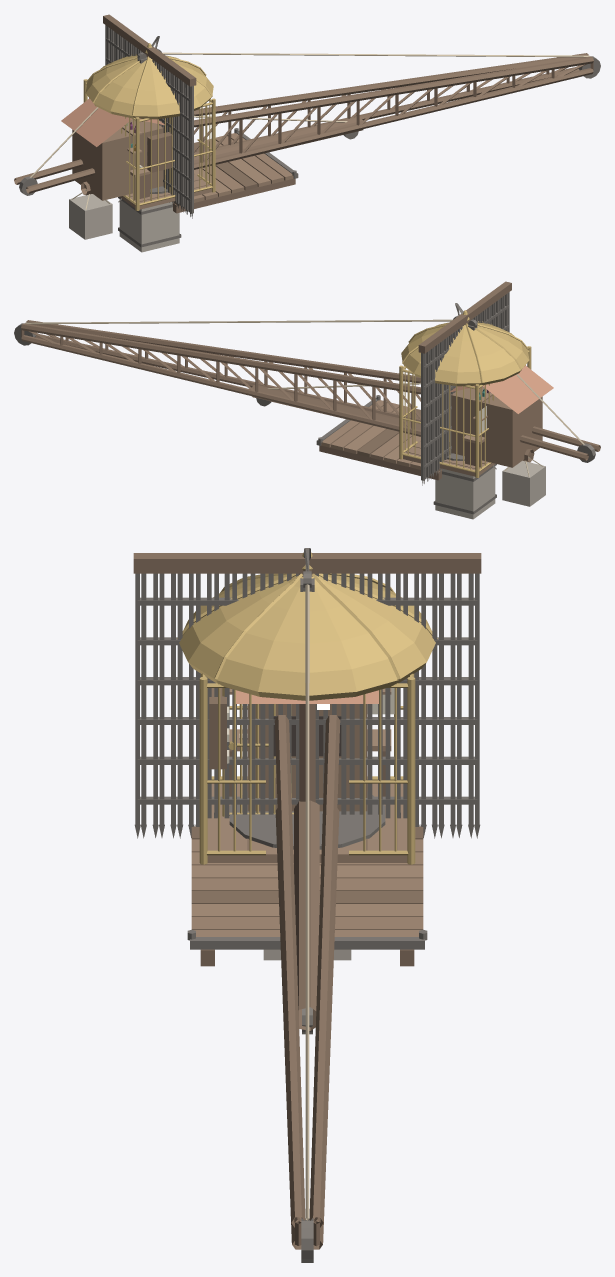
Rendered from rigs.glb.
3 renders of one model, top to bottom at view 1: azimuth 30°, elevation 25°; view 2: azimuth 150°, elevation 25°; view 3: azimuth 270°, elevation 25°, orthographic. The views are drawn at different scales.
Parts seen in each view (by area): view 1: crane_jib__wood_dark, cage__brass, crane_jib__wood, gate1__iron, leaf__wood, counterweight__mortar, gate3__iron, crane_jib__roof, boom__mortar, leaf__wood_dark, boom__wood_dark, crane_jib__rope (+5 smaller); view 2: crane_jib__wood_dark, cage__brass, crane_jib__wood, gate1__iron, leaf__wood, counterweight__mortar, gate3__iron, crane_jib__roof, boom__mortar, leaf__wood_dark, crane_jib__rope, gate1__wood_dark (+5 smaller); view 3: cage__brass, gate1__iron, crane_jib__wood_dark, gate3__iron, leaf__wood, gate1__wood_dark, cage__wood, boom__wood_dark, crane_jib__iron, gate3__wood_dark, crane_jib__rope, leaf__wood_dark (+5 smaller).
Part boxes in pixels (x1,y1,x2,y2): crane_jib__wood_dark: [14, 53, 593, 193]; cage__brass: [83, 43, 215, 210]; crane_jib__wood: [72, 119, 163, 200]; gate1__iron: [105, 25, 193, 218]; leaf__wood: [194, 133, 293, 202]; counterweight__mortar: [119, 199, 179, 252]; gate3__iron: [107, 26, 190, 216]; crane_jib__roof: [61, 98, 164, 146]; boom__mortar: [69, 194, 112, 239]; leaf__wood_dark: [173, 142, 295, 213]; boom__wood_dark: [81, 117, 363, 195]; crane_jib__rope: [30, 52, 589, 177]; crane_jib__wood_dark: [21, 320, 600, 460]; cage__brass: [399, 310, 531, 477]; crane_jib__wood: [451, 386, 542, 467]; gate1__iron: [421, 292, 509, 485]; leaf__wood: [321, 400, 420, 469]; counterweight__mortar: [435, 466, 495, 519]; gate3__iron: [424, 293, 507, 483]; crane_jib__roof: [450, 365, 553, 413]; boom__mortar: [502, 460, 545, 506]; leaf__wood_dark: [319, 409, 441, 480]; crane_jib__rope: [25, 319, 584, 444]; gate1__wood_dark: [418, 281, 511, 353]; cage__brass: [177, 552, 437, 864]; gate1__iron: [134, 573, 480, 838]; crane_jib__wood_dark: [274, 570, 340, 1249]; gate3__iron: [141, 573, 473, 838]; leaf__wood: [191, 839, 423, 936]; gate1__wood_dark: [133, 553, 481, 573]; cage__wood: [207, 688, 407, 862]; boom__wood_dark: [294, 800, 319, 1030]; crane_jib__iron: [229, 792, 385, 1262]; gate3__wood_dark: [140, 553, 474, 573]; crane_jib__rope: [305, 584, 309, 1220]; leaf__wood_dark: [191, 826, 423, 966].
Size of the model in its own units: 16.75 by 5.61 by 4.35.
